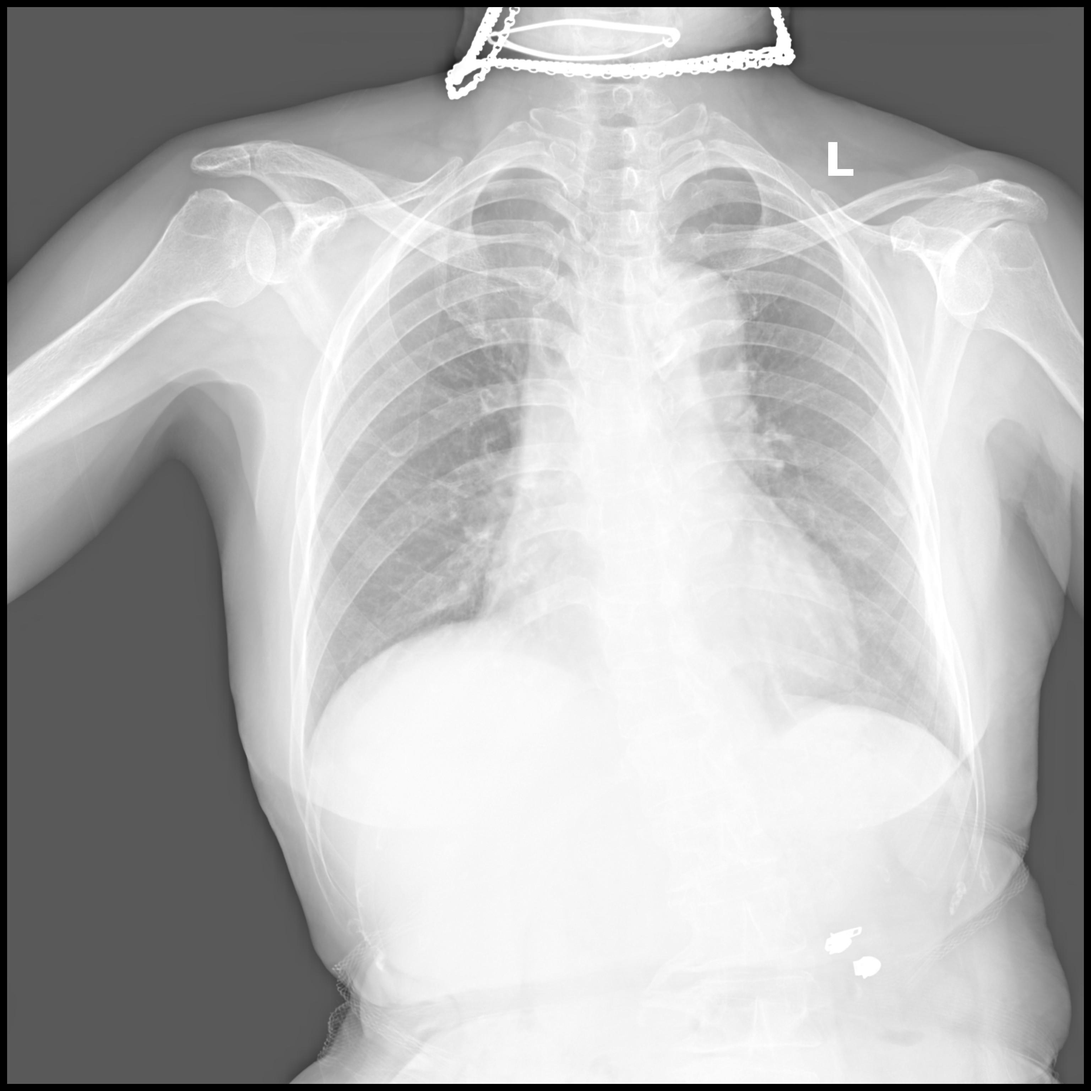Aortic enlargement: (623, 265, 747, 380)
Cardiomegaly: (485, 567, 857, 695)
